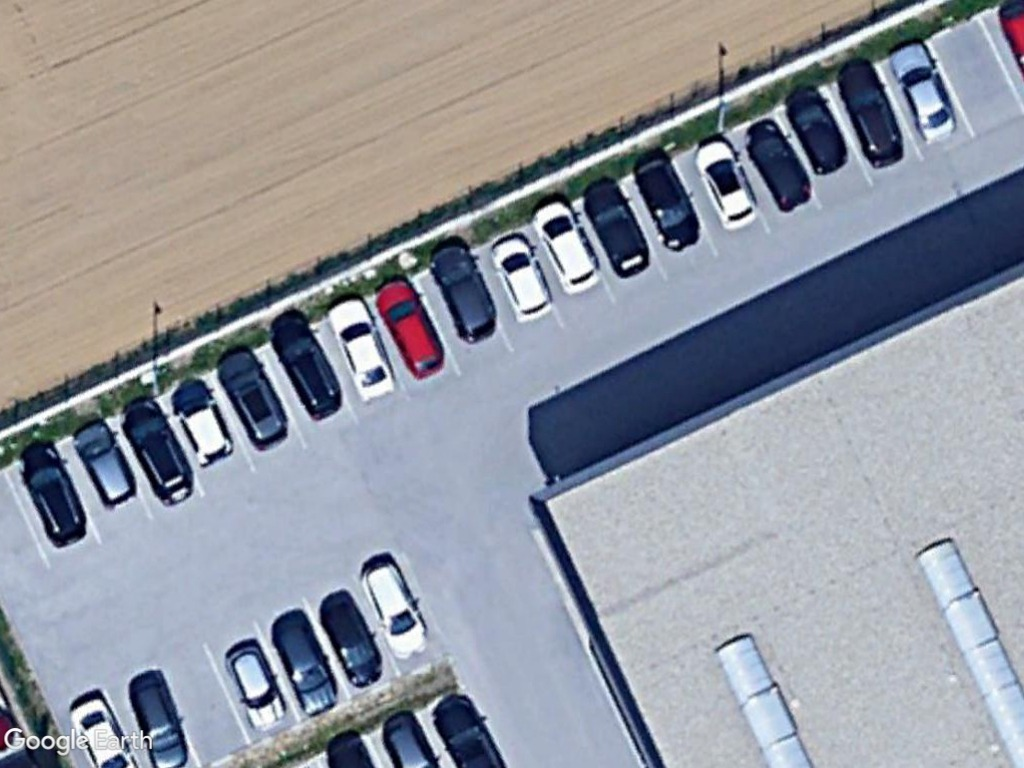car: (112, 396, 199, 506), (8, 442, 89, 552), (368, 275, 448, 383), (264, 316, 346, 419), (354, 555, 433, 661), (321, 298, 396, 407), (212, 350, 292, 451), (884, 40, 959, 146), (266, 619, 341, 721), (837, 60, 905, 171), (580, 177, 653, 280), (628, 154, 703, 254), (527, 199, 603, 296), (429, 242, 500, 345), (738, 118, 815, 212), (690, 136, 759, 232), (317, 597, 388, 690), (168, 379, 237, 468), (66, 422, 136, 509), (488, 235, 556, 322), (222, 644, 289, 732), (783, 87, 849, 176), (128, 679, 192, 768)
